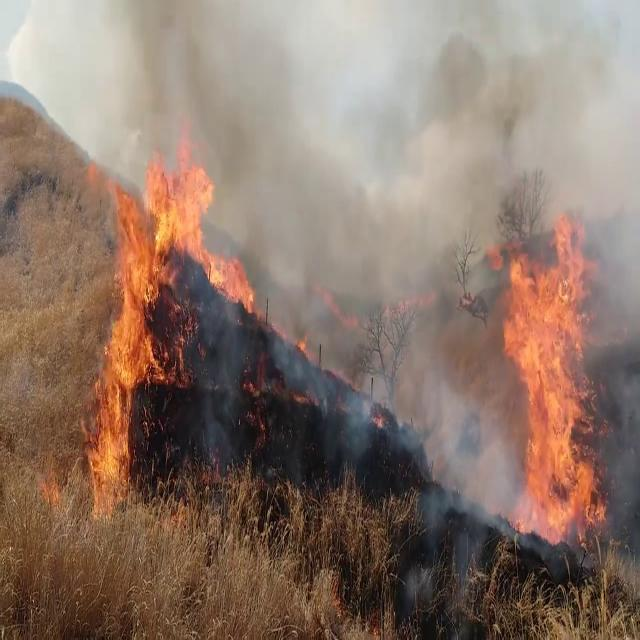Fire: (490, 204, 610, 539), (88, 142, 186, 500), (136, 148, 252, 309)
Smoke: (92, 0, 640, 289), (311, 282, 537, 586)
